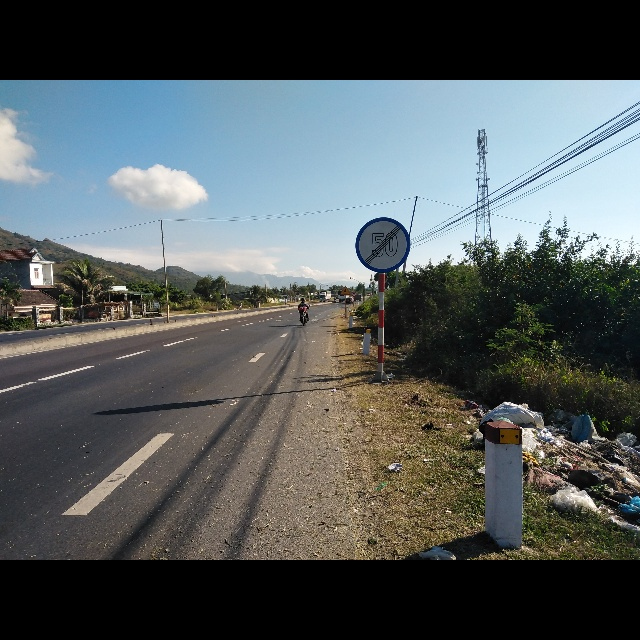Hết hạn chế tốc độ tối đa 50km/h: (353, 213, 411, 273)
